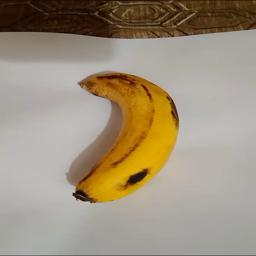Banana Semifresh: (70, 69, 180, 209)
